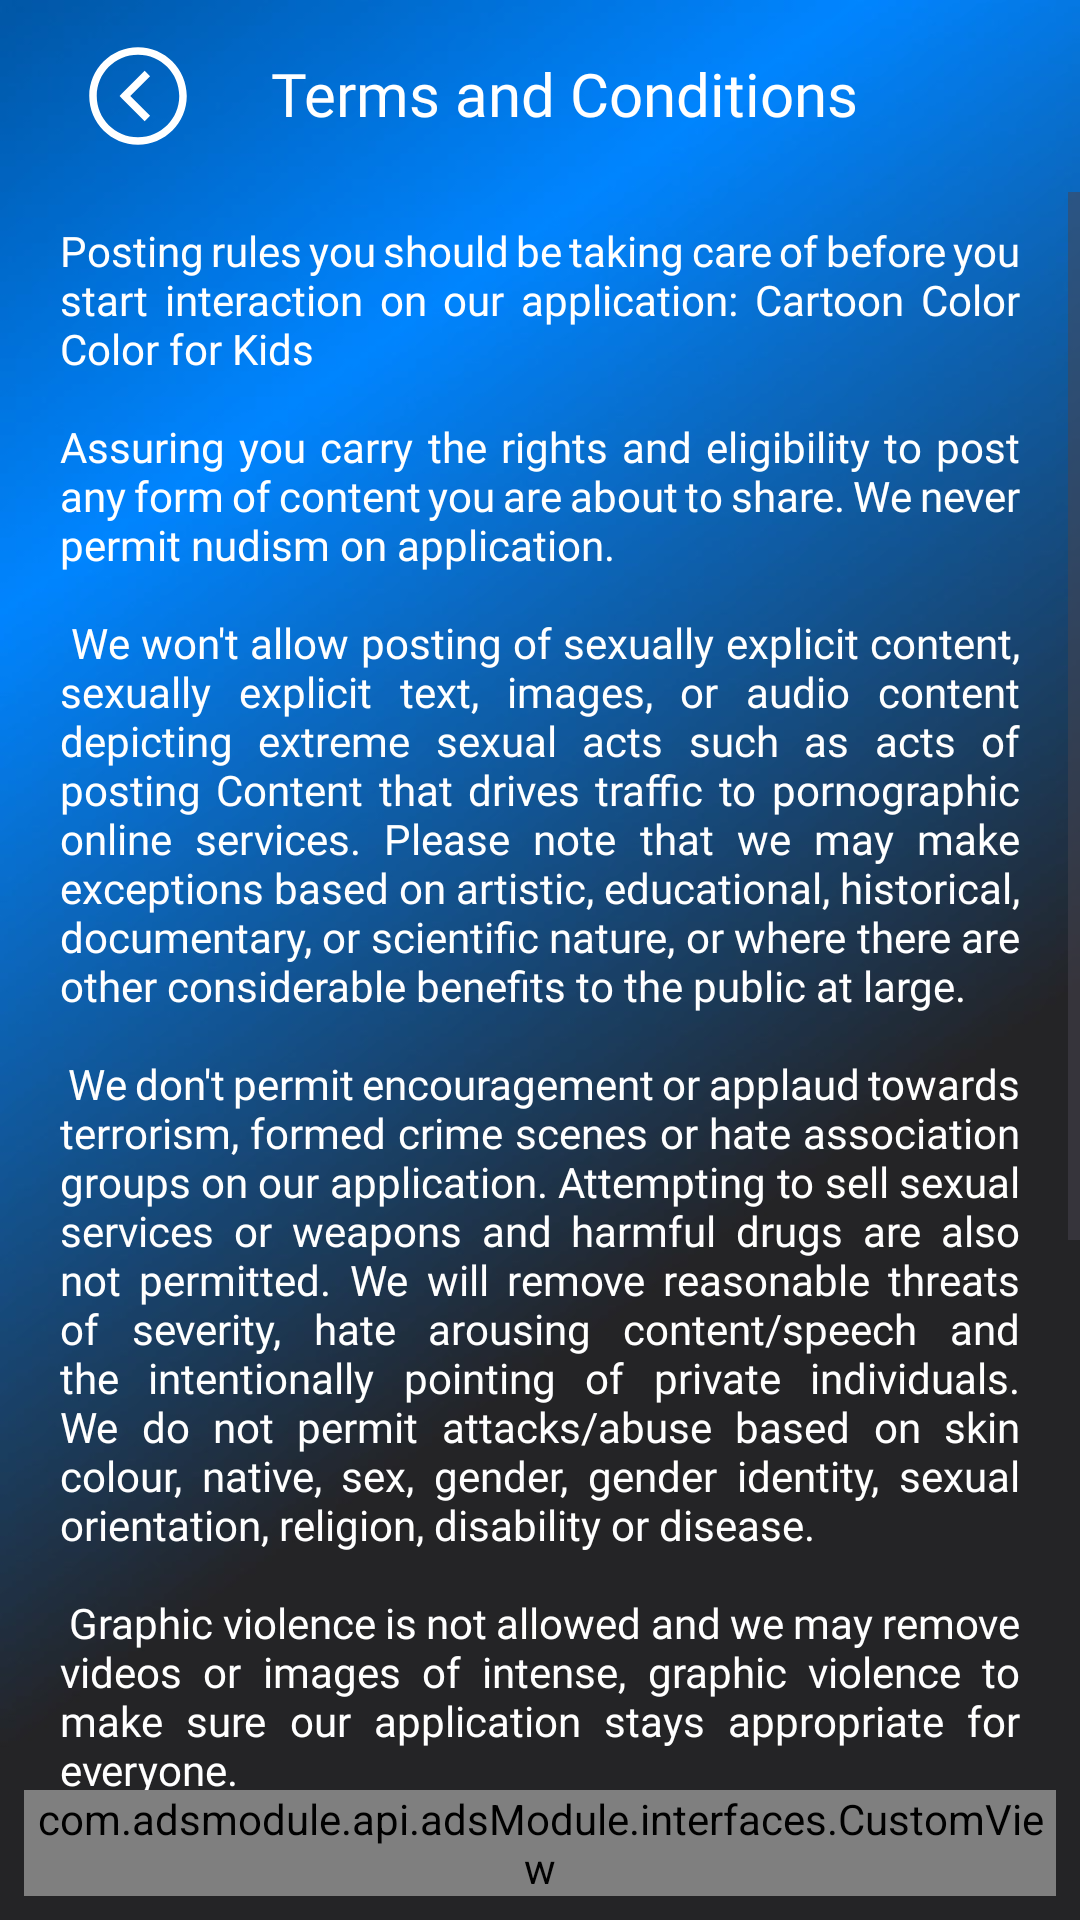

Icons on this 1080*1920 Android screen, each with its box as (x1, y1, x2, y2):
back arrow: (89, 47, 187, 145)
